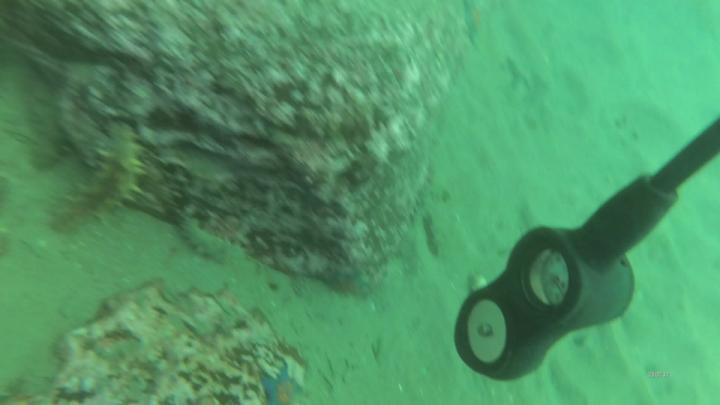holothurian: (51, 119, 151, 237), (176, 211, 250, 272)
starfish: (259, 364, 307, 405), (462, 2, 488, 50), (332, 269, 371, 301)
